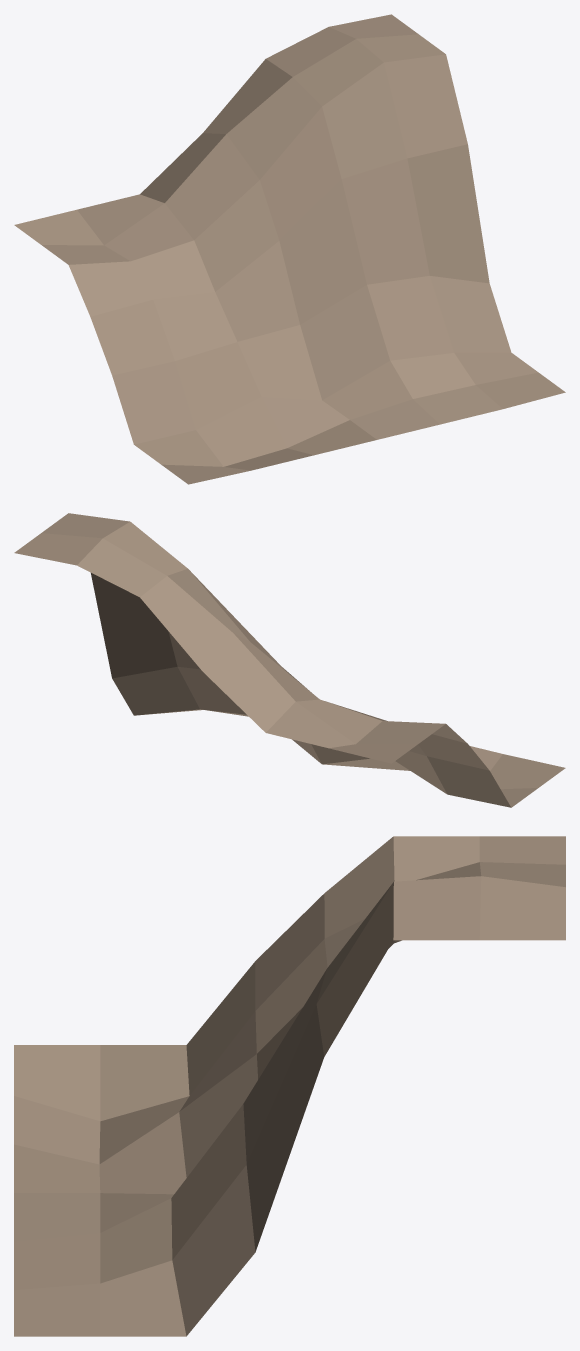
Rendered from Groborchik_RiverBank_Trans_Down4-2.fbx.
3 views of the same model, one above another, from view 1: azimuth 30°, elevation 25°; view 2: azimuth 150°, elevation 25°; view 3: azimuth 270°, elevation 25° (orthographic). The views are drawn at different scales.
Parts seen in each view (by area): view 1: Trans_Down4-2; view 2: Trans_Down4-2; view 3: Trans_Down4-2.
Part boxes in pixels (x1=…): Trans_Down4-2: x1=14, y1=14, x2=565, y2=484; Trans_Down4-2: x1=14, y1=513, x2=565, y2=807; Trans_Down4-2: x1=14, y1=836, x2=565, y2=1336.
Size of the model in its own units: 1000 by 704 by 800.
